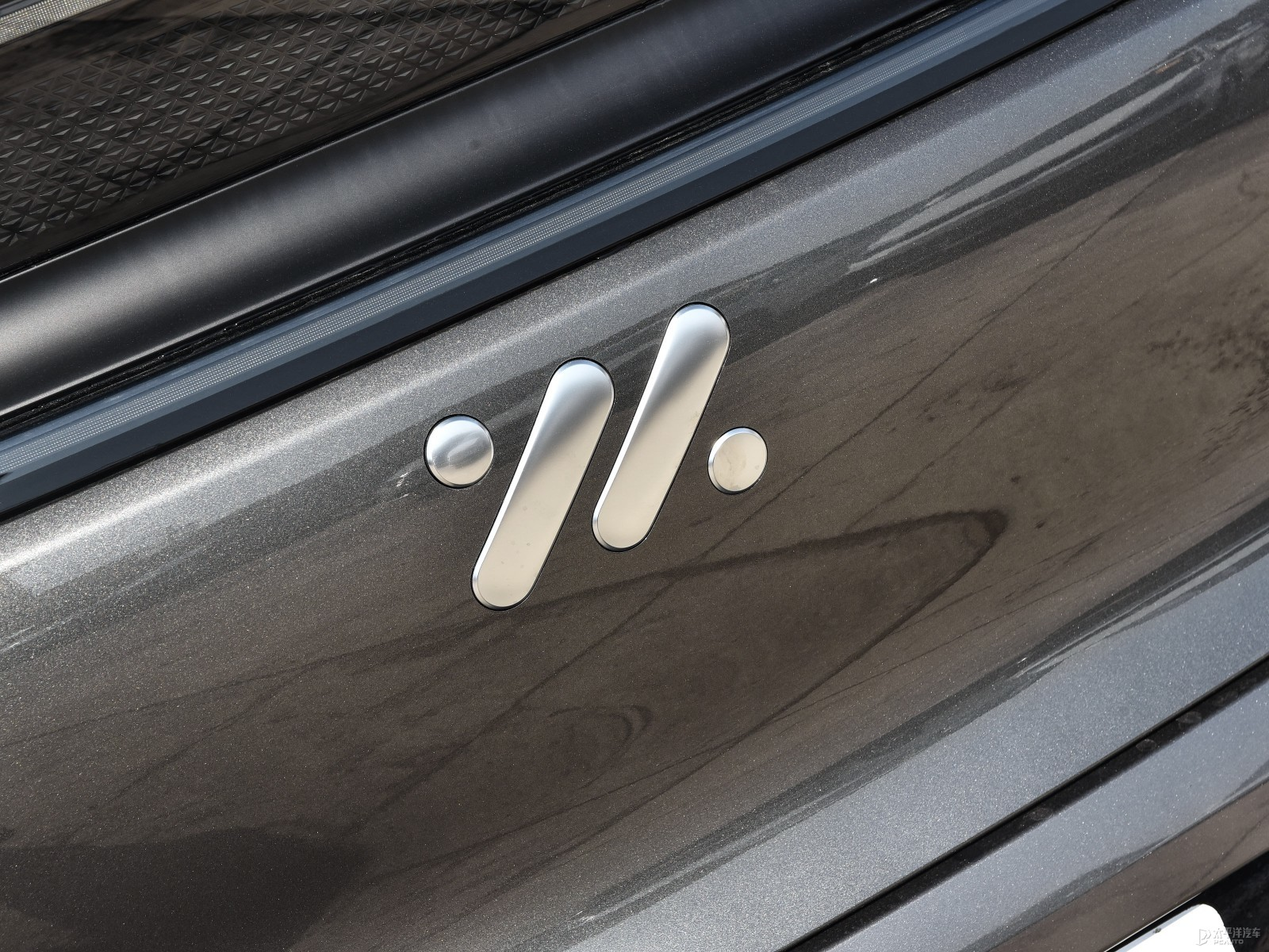IM: (424, 305, 767, 608)
